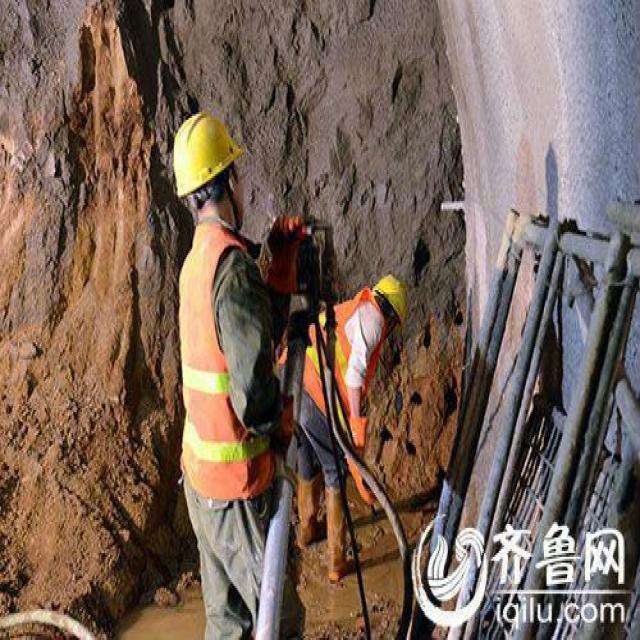head: (168, 98, 251, 240), (369, 272, 408, 332)
